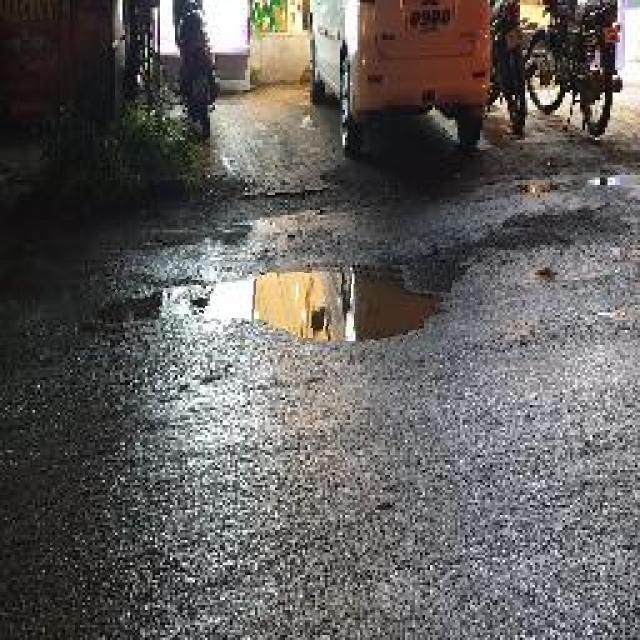puddle: (98, 259, 452, 348)
